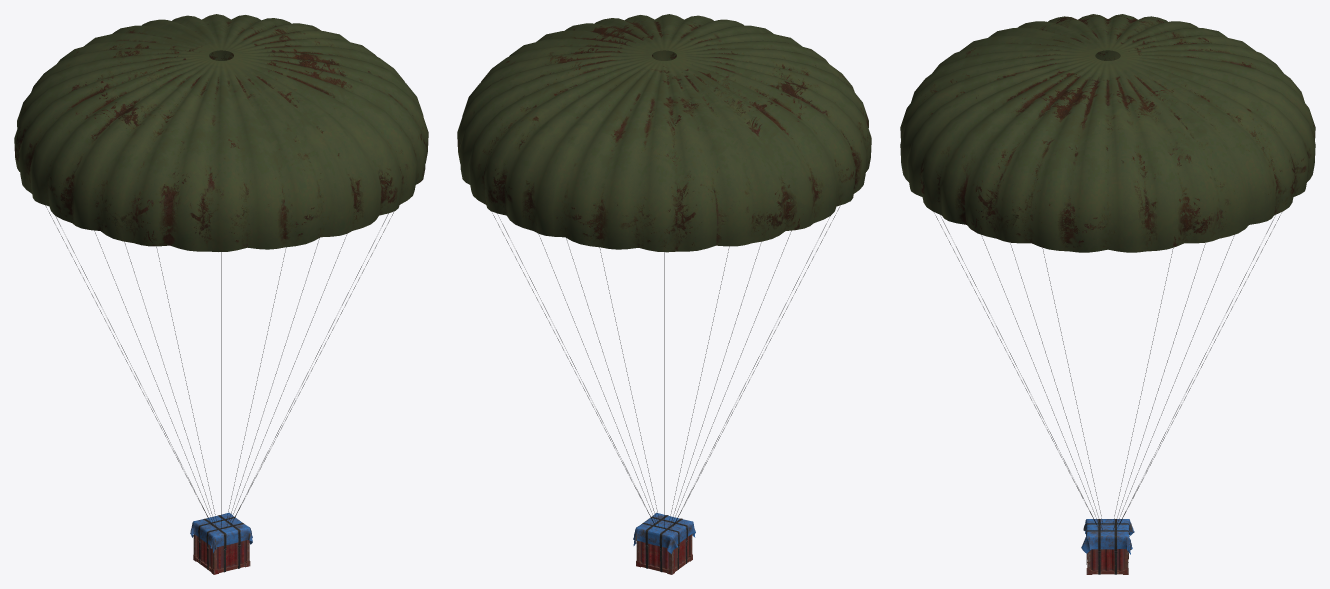
The model's file is CarePackage.FBX.
3 views of the same model, side by side, from view 1: azimuth 30°, elevation 25°; view 2: azimuth 150°, elevation 25°; view 3: azimuth 270°, elevation 25° (orthographic).
Visible parts, largest first — view 1: ParachuteCare, CarePaKage_01; view 2: ParachuteCare, CarePaKage_01; view 3: ParachuteCare, CarePaKage_01.
Boxes of the visible parts, x1,y1,x2,y2 form: ParachuteCare: [14, 14, 428, 528]; CarePaKage_01: [190, 512, 252, 574]; ParachuteCare: [457, 14, 871, 528]; CarePaKage_01: [633, 512, 695, 574]; ParachuteCare: [900, 14, 1315, 530]; CarePaKage_01: [1081, 519, 1134, 574].
Size of the model in its own units: 1480 by 2006 by 1480.
